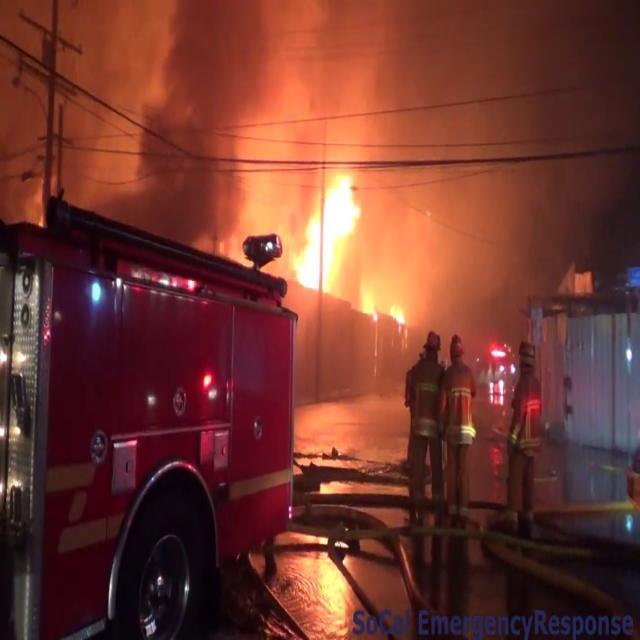Fire: (283, 162, 411, 322)
Smoke: (92, 0, 632, 254)
